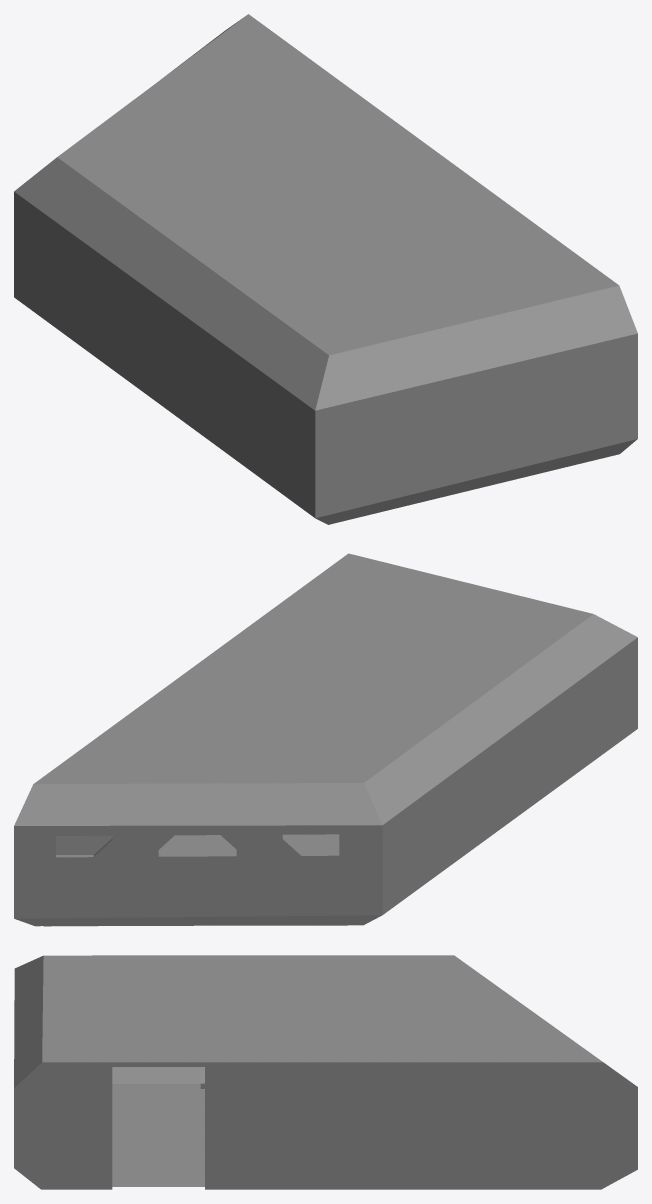
The model's file is Ship_Room_Side_Left_001_v004.fbx.
3 views of the same model, one above another, from view 1: azimuth 30°, elevation 25°; view 2: azimuth 150°, elevation 25°; view 3: azimuth 270°, elevation 25° (orthographic). The views are drawn at different scales.
Visible parts, largest first — view 1: Ship_Room_Side_Exterior_Left_001; view 2: Ship_Room_Side_Exterior_Left_001, Ship_Room_Side_Floor_Left_001, Ship_Room_Side_Interior_Left_001; view 3: Ship_Room_Side_Exterior_Left_001, Ship_Room_Side_Floor_Left_001, Ship_Room_Side_Interior_Left_001.
Boxes of the visible parts, left/top/right/bottom form: Ship_Room_Side_Exterior_Left_001: left=14, top=14, right=637, bottom=524; Ship_Room_Side_Exterior_Left_001: left=14, top=553, right=637, bottom=926; Ship_Room_Side_Floor_Left_001: left=43, top=834, right=339, bottom=926; Ship_Room_Side_Interior_Left_001: left=56, top=835, right=339, bottom=857; Ship_Room_Side_Exterior_Left_001: left=14, top=955, right=637, bottom=1189; Ship_Room_Side_Floor_Left_001: left=112, top=1084, right=204, bottom=1186; Ship_Room_Side_Interior_Left_001: left=112, top=1067, right=200, bottom=1083.
Bounding box in the file's own units: 915 × 456 × 2025.
